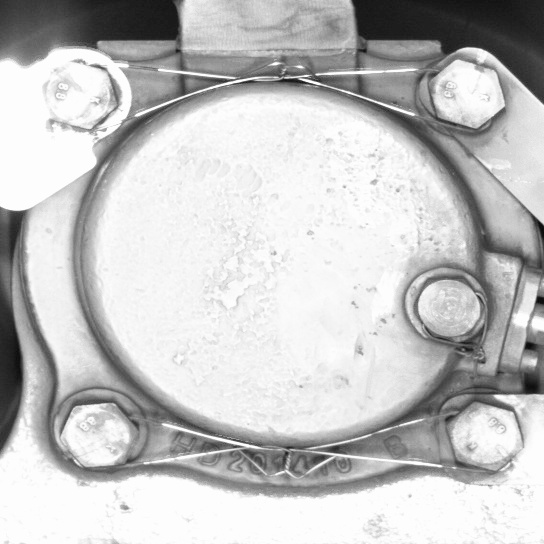IronWire: (34, 50, 516, 138), (53, 391, 534, 478)
Screw: (53, 391, 148, 477), (420, 51, 514, 137), (438, 394, 533, 479), (35, 52, 125, 139), (405, 271, 489, 344)
